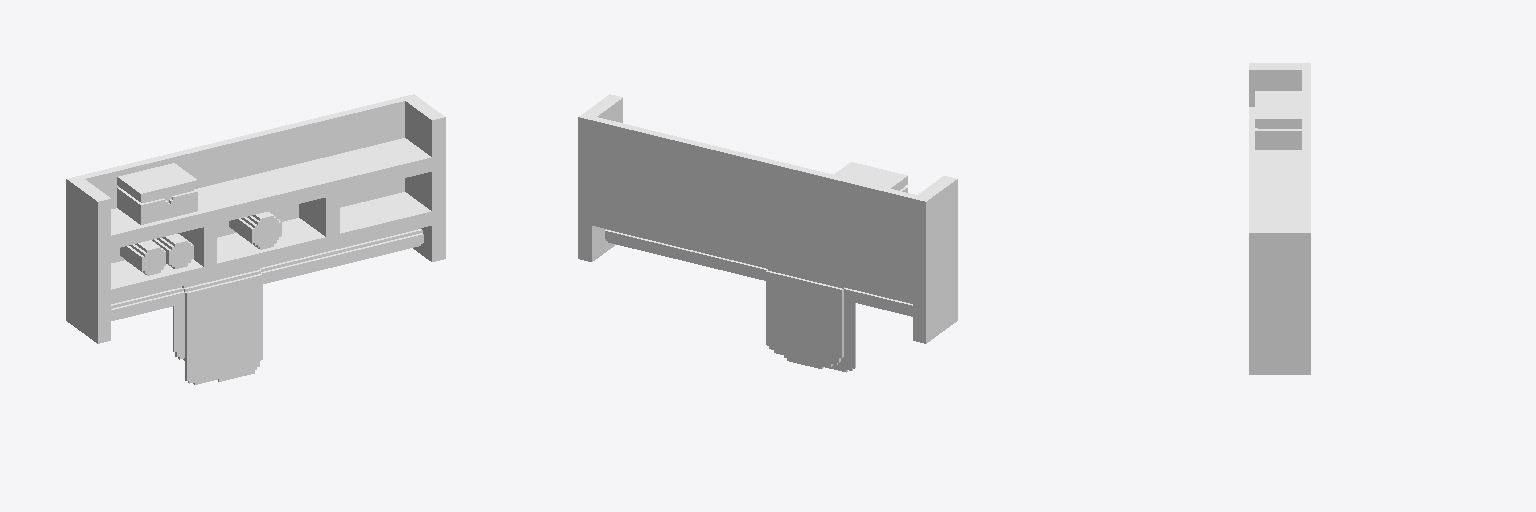
The model's file is PrateleiraToalha.obj.
3 views of the same model, side by side, from view 1: azimuth 30°, elevation 25°; view 2: azimuth 150°, elevation 25°; view 3: azimuth 270°, elevation 25° (orthographic).
Parts seen in each view (by area): view 1: object 1; view 2: object 1; view 3: object 1.
Part boxes in pixels (bbox=[...]): object 1: bbox=[66, 94, 445, 384]; object 1: bbox=[578, 94, 957, 372]; object 1: bbox=[1249, 63, 1310, 374].
Size of the model in its own units: 12.8 by 7.6 by 2.